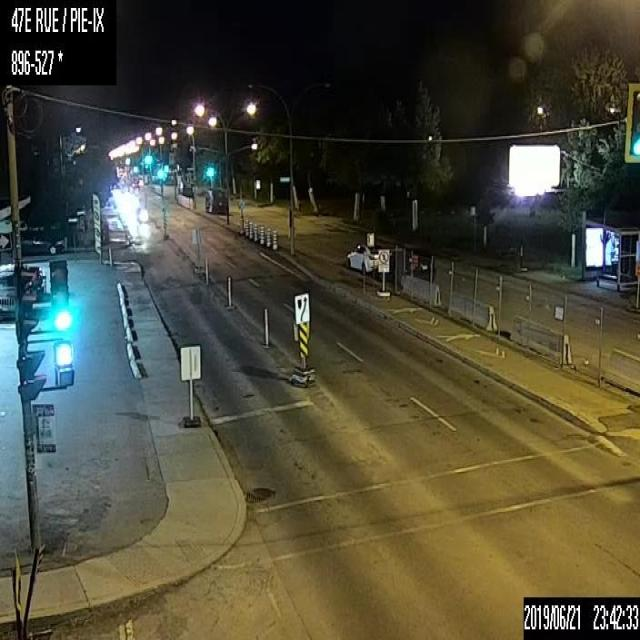construction: (261, 306, 269, 347), (226, 275, 232, 309), (204, 255, 210, 286), (253, 222, 258, 242), (259, 224, 264, 243), (248, 222, 253, 240), (272, 230, 277, 248), (266, 228, 270, 247), (244, 217, 248, 236)
vehicle: (386, 244, 436, 287), (0, 262, 33, 319), (343, 243, 388, 273), (20, 230, 64, 253), (28, 265, 46, 299), (204, 187, 227, 213), (126, 204, 148, 224)
